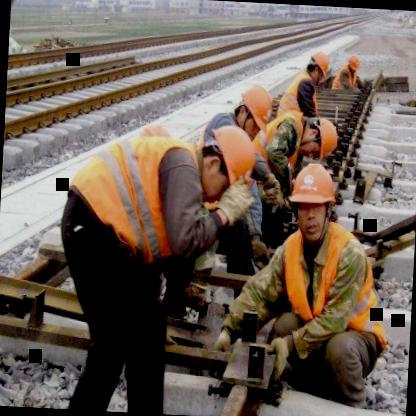helmet: (190, 122, 260, 202), (284, 157, 342, 247), (231, 80, 275, 144), (303, 115, 337, 167), (308, 50, 330, 82), (346, 52, 360, 78)
